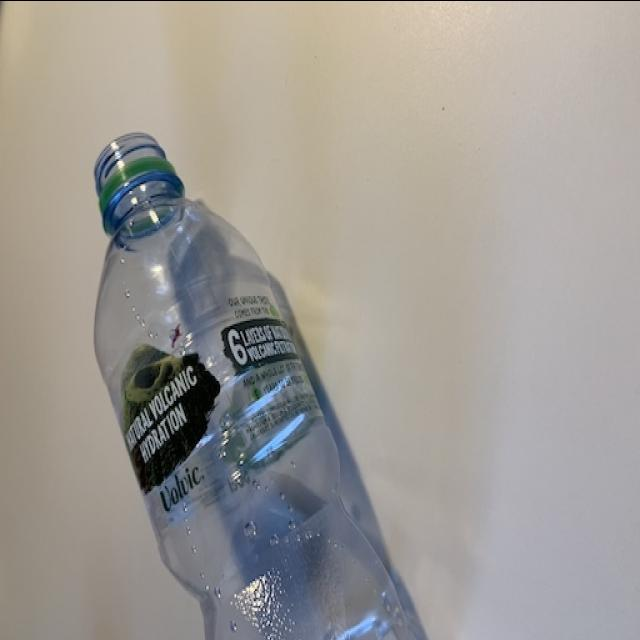PET: (86, 122, 423, 640)
